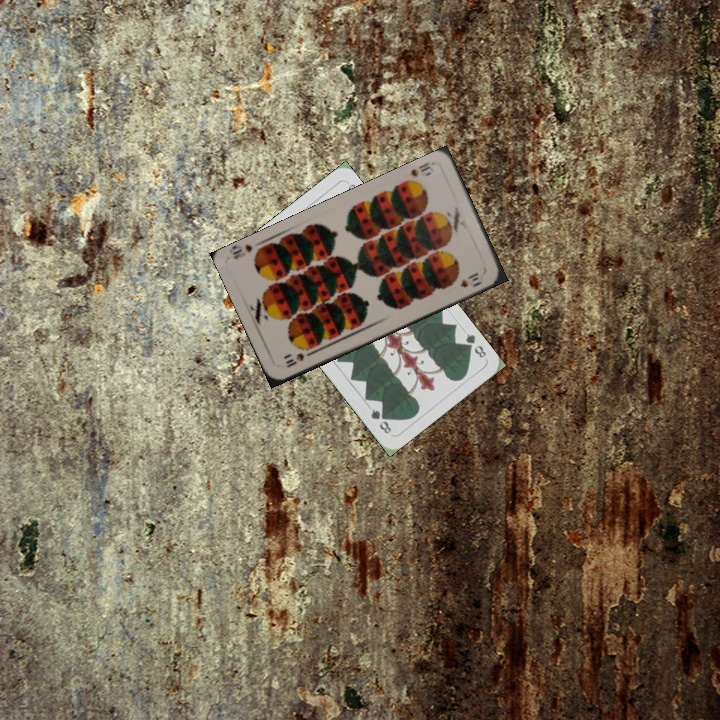G8: (459, 329, 489, 361)
S10: (282, 347, 316, 370), (406, 158, 433, 180)
